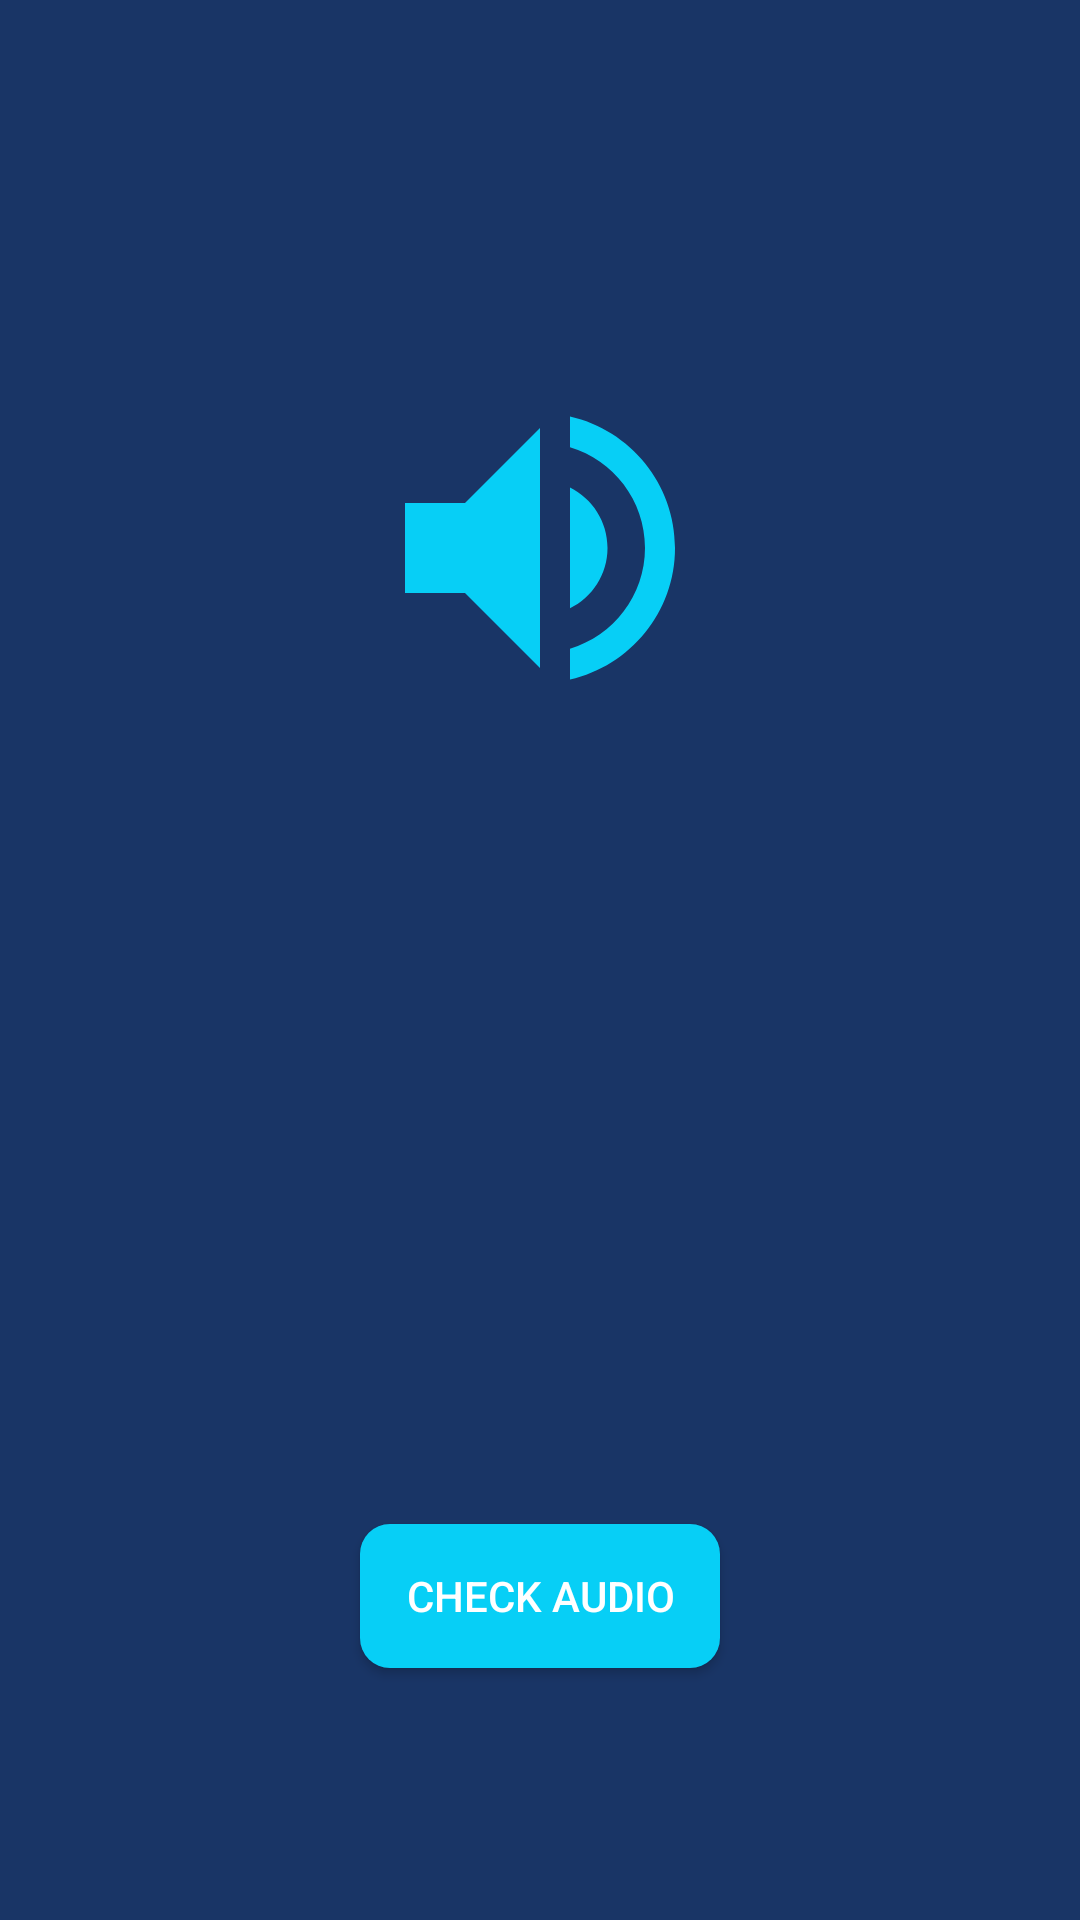

Icons on this 1080×1920 Android screen, each with the point to tap as (x=x, y=y):
speaker: (x=540, y=548)
